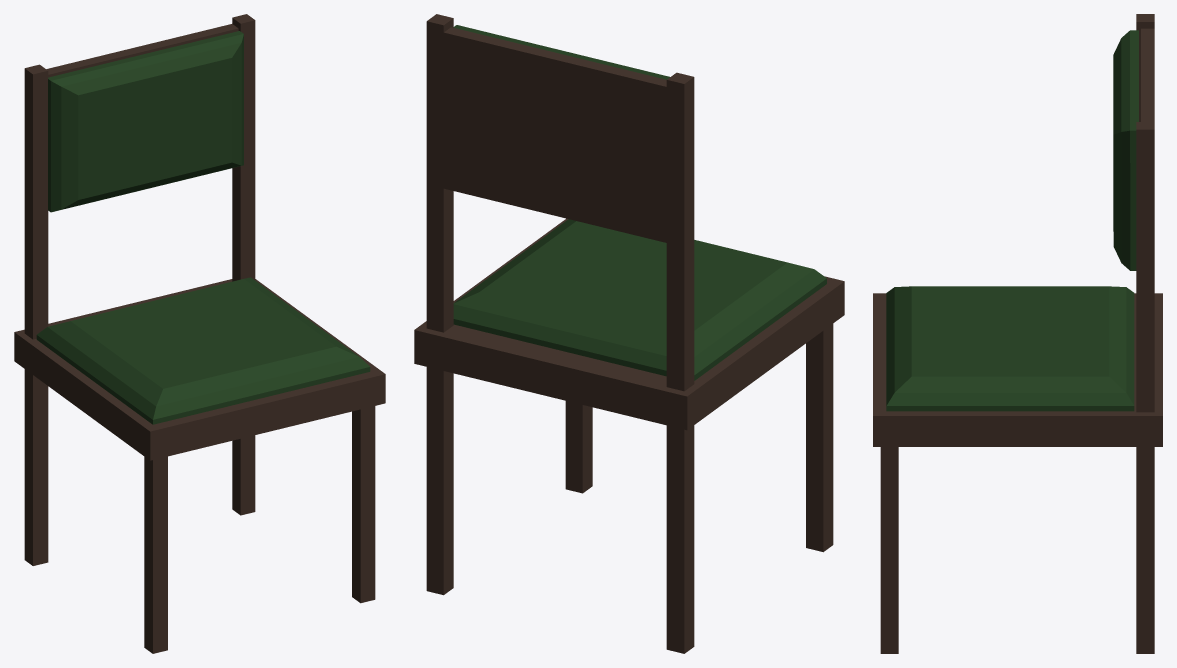
The model's file is kursi kamar.fbx.
3 renders of one model, left to right at view 1: azimuth 30°, elevation 25°; view 2: azimuth 150°, elevation 25°; view 3: azimuth 270°, elevation 25°, orthographic. The views are drawn at different scales.
Visible parts, largest first — view 1: Cube, Cube.001, Cube.002; view 2: Cube, Cube.001, Cube.002; view 3: Cube.001, Cube, Cube.002.
Part boxes in pixels (x1=…): Cube: x1=14, y1=14, x2=385, y2=653; Cube.001: x1=36, y1=277, x2=370, y2=424; Cube.002: x1=48, y1=31, x2=243, y2=212; Cube: x1=414, y1=14, x2=844, y2=653; Cube.001: x1=453, y1=219, x2=826, y2=380; Cube.002: x1=453, y1=25, x2=669, y2=79; Cube.001: x1=886, y1=286, x2=1134, y2=411; Cube: x1=873, y1=14, x2=1162, y2=653; Cube.002: x1=1113, y1=30, x2=1138, y2=270.
Size of the model in its own units: 122 by 243 by 122.
